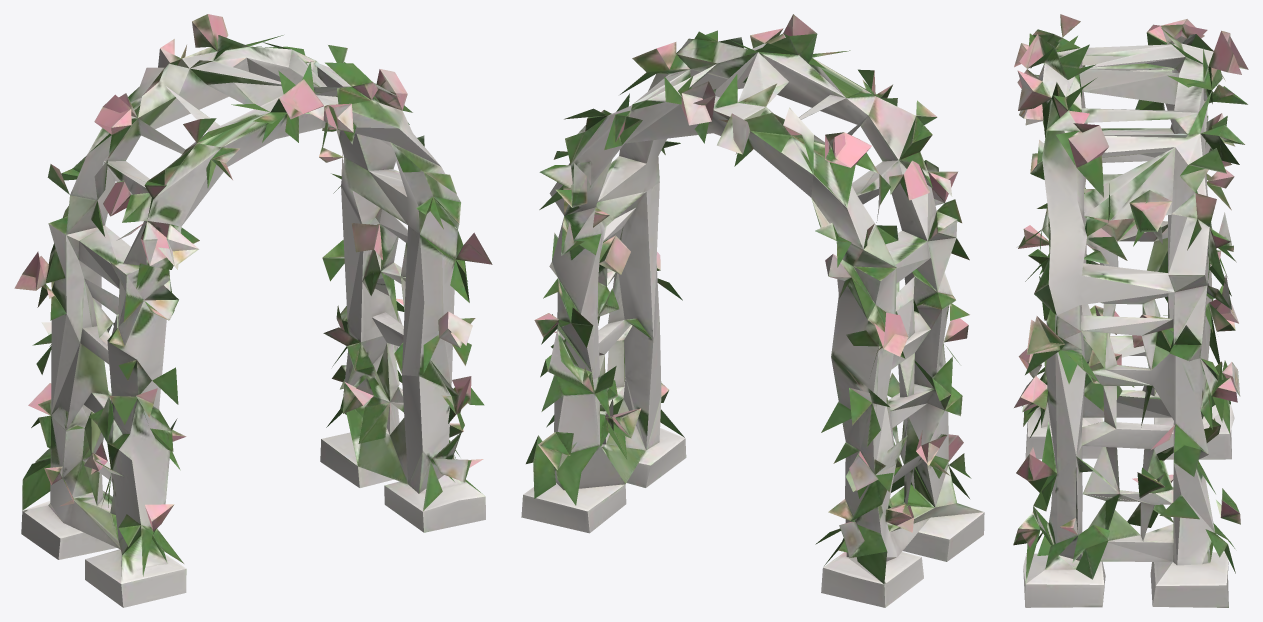
The model's file is deco-flower-arch.glb.
3 views of the same model, side by side, from view 1: azimuth 30°, elevation 25°; view 2: azimuth 150°, elevation 25°; view 3: azimuth 270°, elevation 25° (orthographic).
Visible parts, largest first — view 1: deco-flower-arch-fit; view 2: deco-flower-arch-fit; view 3: deco-flower-arch-fit.
Part boxes in pixels (left/top/right/bottom): deco-flower-arch-fit: left=14, top=14, right=492, bottom=607; deco-flower-arch-fit: left=521, top=14, right=984, bottom=607; deco-flower-arch-fit: left=1013, top=14, right=1248, bottom=607.
Bounding box in the file's own units: 2.01 × 2.4 × 1.05.
1 material, 1 textured.
